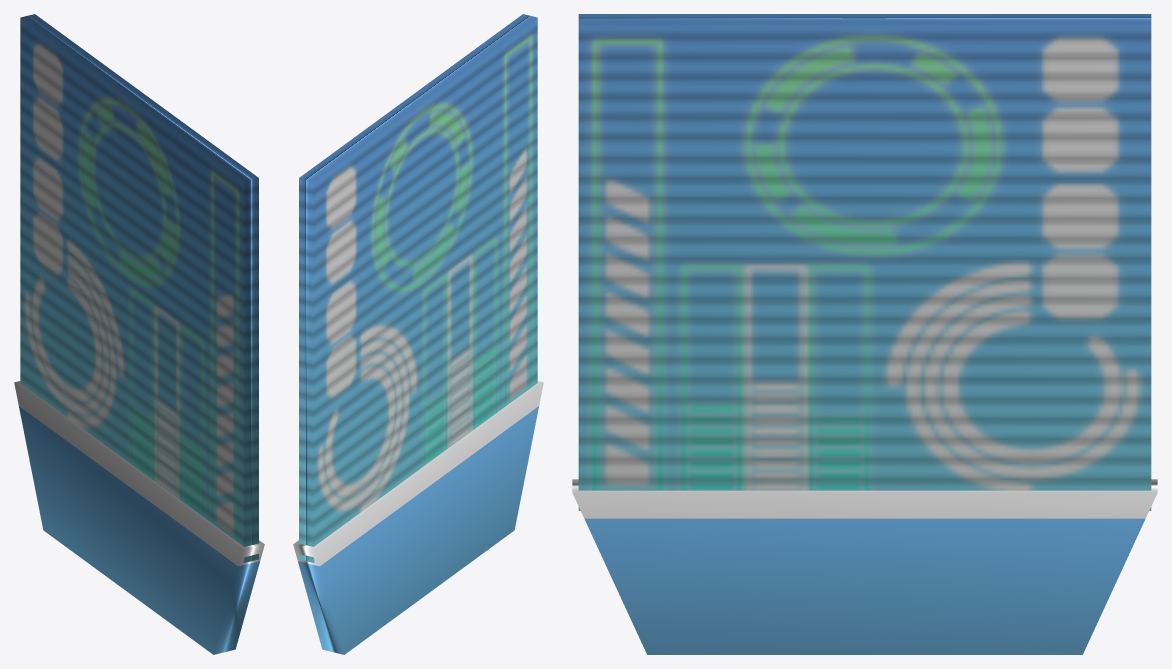
The model's file is Armchair_013_Display_02.fbx.
3 views of the same model, side by side, from view 1: azimuth 30°, elevation 25°; view 2: azimuth 150°, elevation 25°; view 3: azimuth 270°, elevation 25° (orthographic). The views are drawn at different scales.
Visible parts, largest first — view 1: Armchair_013_Display_02; view 2: Armchair_013_Display_02; view 3: Armchair_013_Display_02.
Boxes of the visible parts, x1=… form: Armchair_013_Display_02: x1=14, y1=14, x2=264, y2=654; Armchair_013_Display_02: x1=293, y1=14, x2=543, y2=654; Armchair_013_Display_02: x1=572, y1=14, x2=1157, y2=654.
Size of the model in its own units: 1.28 by 22.91 by 27.21.
